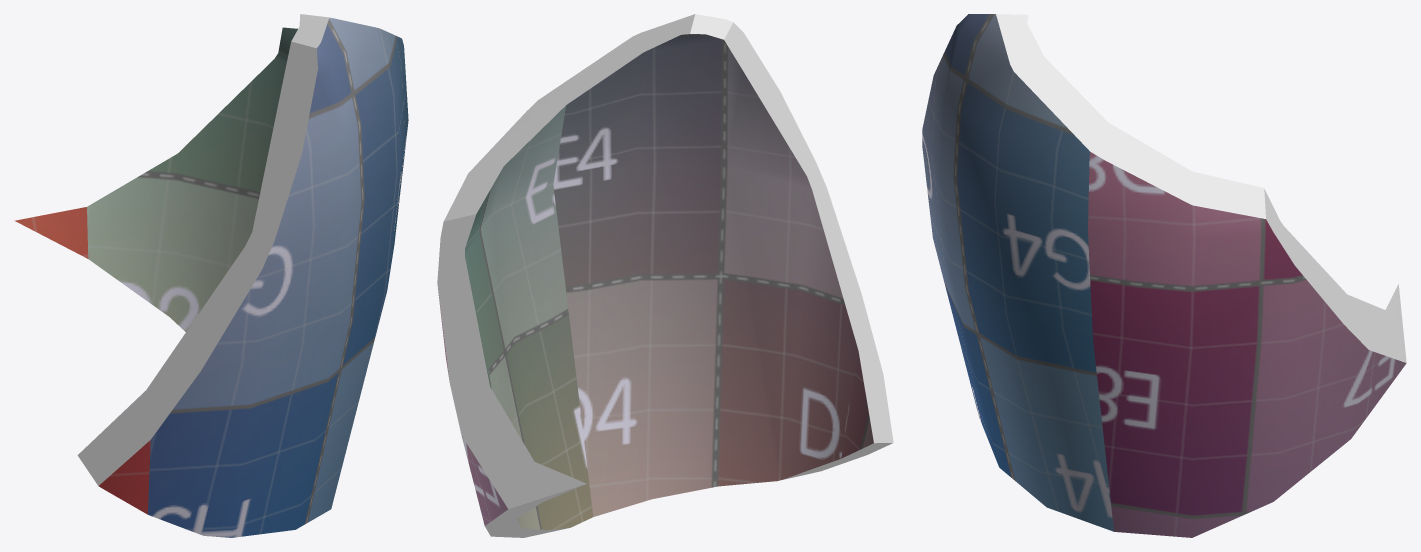
File: LongVase_SHAT_cell_013.fbx
3 views of the same model, side by side, from view 1: azimuth 30°, elevation 25°; view 2: azimuth 150°, elevation 25°; view 3: azimuth 270°, elevation 25° (orthographic). The views are drawn at different scales.
Parts seen in each view (by area): view 1: LongVase_SHAT_cell_013; view 2: LongVase_SHAT_cell_013; view 3: LongVase_SHAT_cell_013.
Boxes of the visible parts, x1=… form: LongVase_SHAT_cell_013: x1=14, y1=14, x2=408, y2=537; LongVase_SHAT_cell_013: x1=437, y1=14, x2=893, y2=537; LongVase_SHAT_cell_013: x1=922, y1=14, x2=1406, y2=537.
Size of the model in its own units: 0.8205 by 1.1 by 0.9948.
2 materials, 1 textured.
